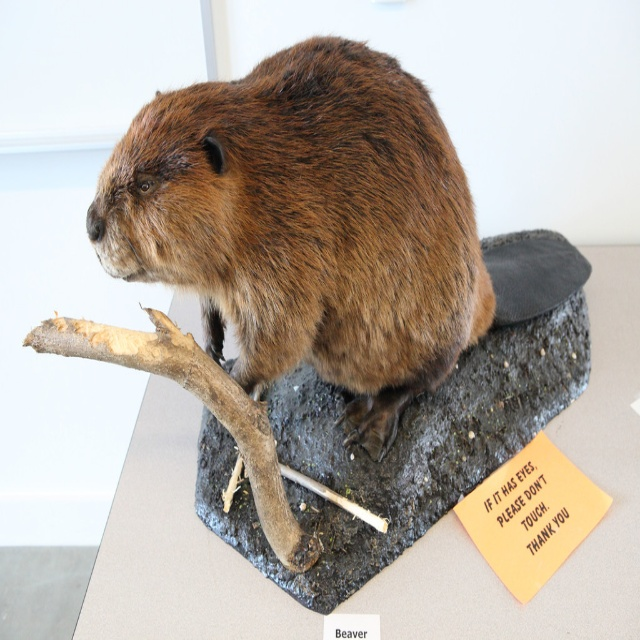Mouse: (88, 33, 593, 460)
